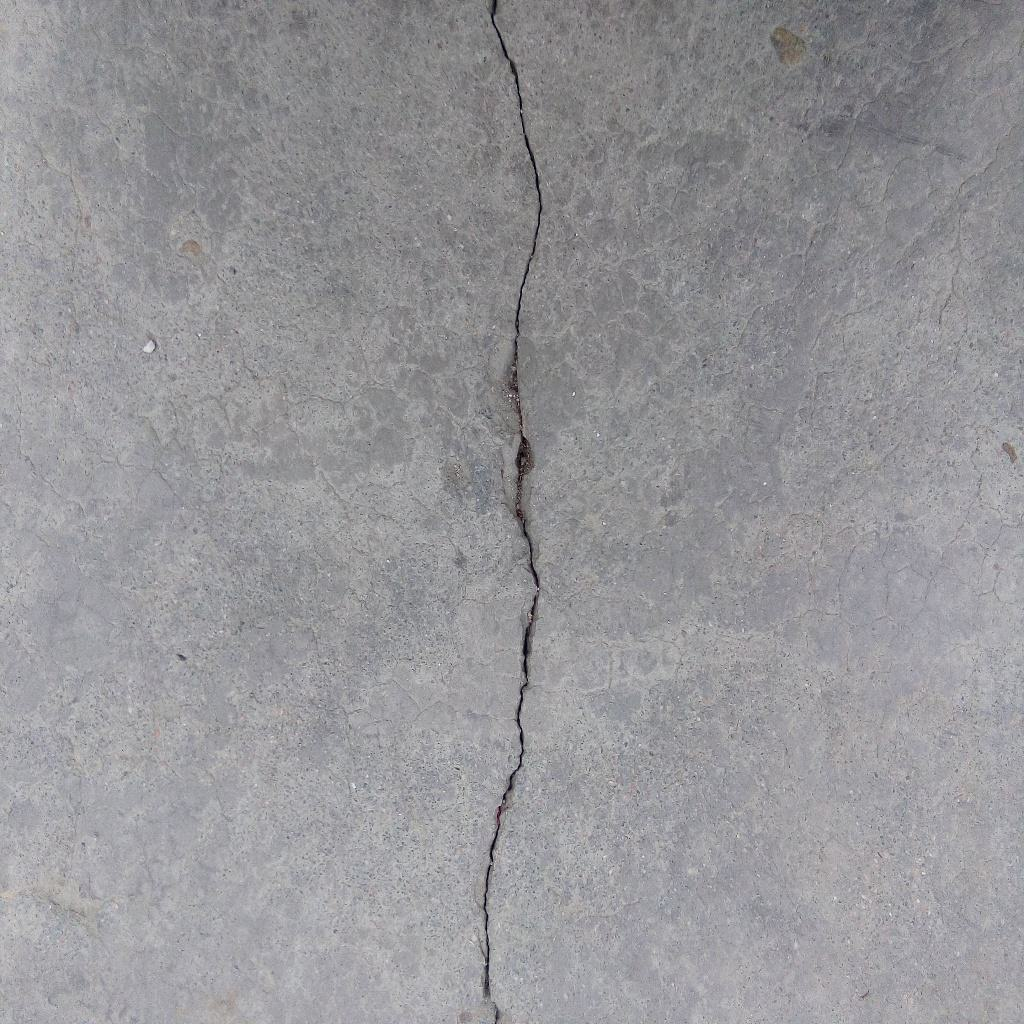Crack: (482, 1, 543, 1024)
Spalling: (769, 26, 807, 67)
